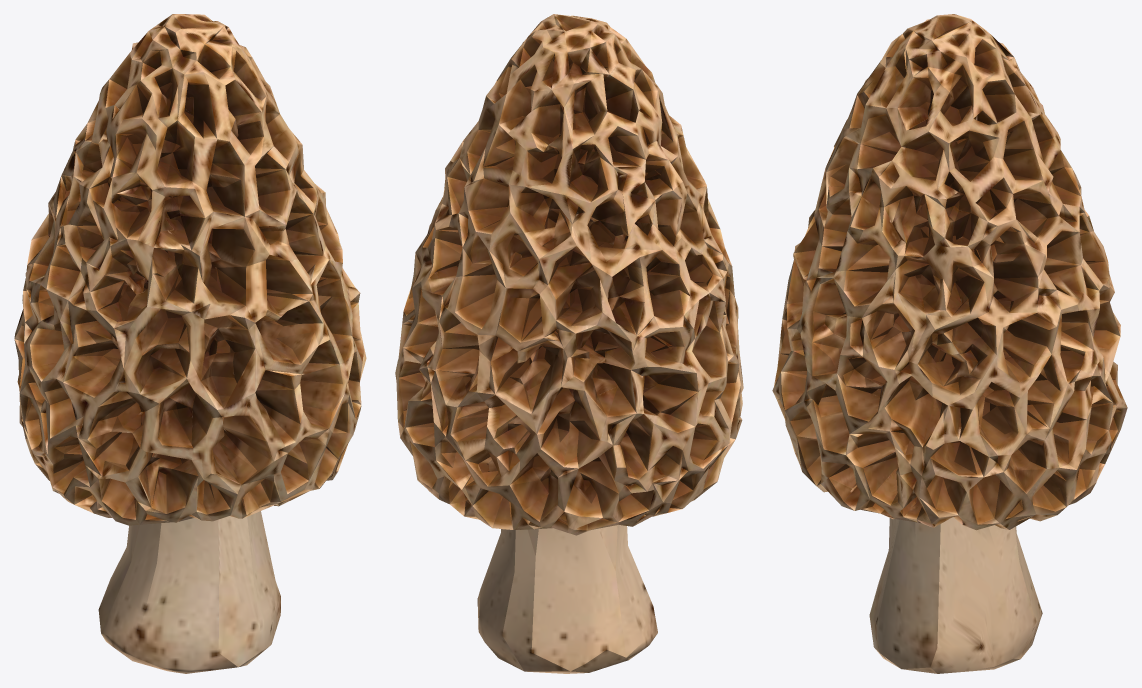
The model's file is kuzugobegi.glb.
3 renders of one model, left to right at view 1: azimuth 30°, elevation 25°; view 2: azimuth 150°, elevation 25°; view 3: azimuth 270°, elevation 25°, orthographic.
Visible parts, largest first — view 1: output_unwrapped; view 2: output_unwrapped; view 3: output_unwrapped.
Part boxes in pixels (x1,y1,x2,y2): output_unwrapped: (14, 14, 366, 673); output_unwrapped: (395, 14, 743, 673); output_unwrapped: (772, 14, 1127, 673).
Size of the model in its own units: 0.9724 by 1.89 by 0.9779.
1 material, 1 textured.
